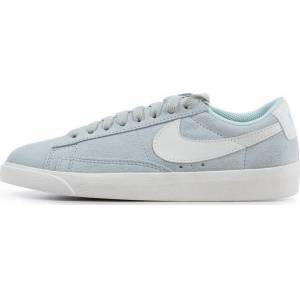nike: (151, 120, 281, 165)
